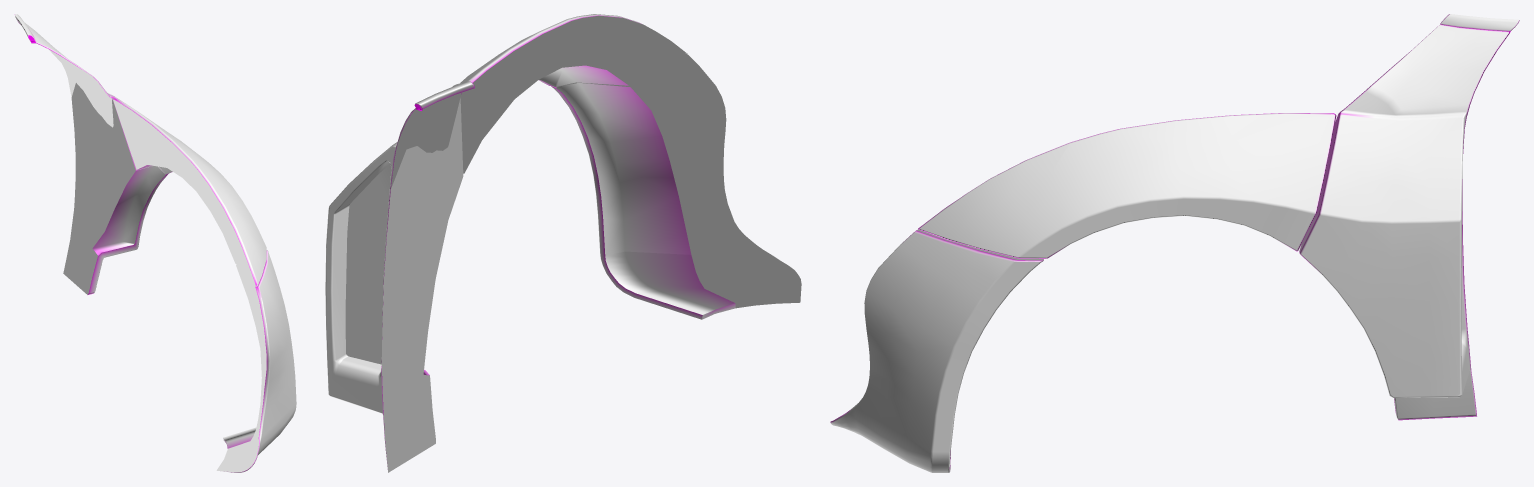
The model's file is Car_Mini_CountrymanJCW_2017_FenderFL_SetC_AltA.fbx.
The picture shows the model from 3 angles, left to right: view 1: azimuth 30°, elevation 25°; view 2: azimuth 150°, elevation 25°; view 3: azimuth 270°, elevation 25°; orthographic projection. The views are drawn at different scales.
Visible parts, largest first — view 1: FenderFL 6; view 2: FenderFL 6; view 3: FenderFL 6.
Boxes of the visible parts, box(x1,y1,x2,y2) form: FenderFL 6: box(14, 14, 296, 472); FenderFL 6: box(325, 14, 801, 472); FenderFL 6: box(830, 14, 1519, 472).
Size of the model in its own units: 0.3159 by 0.8354 by 1.26.
